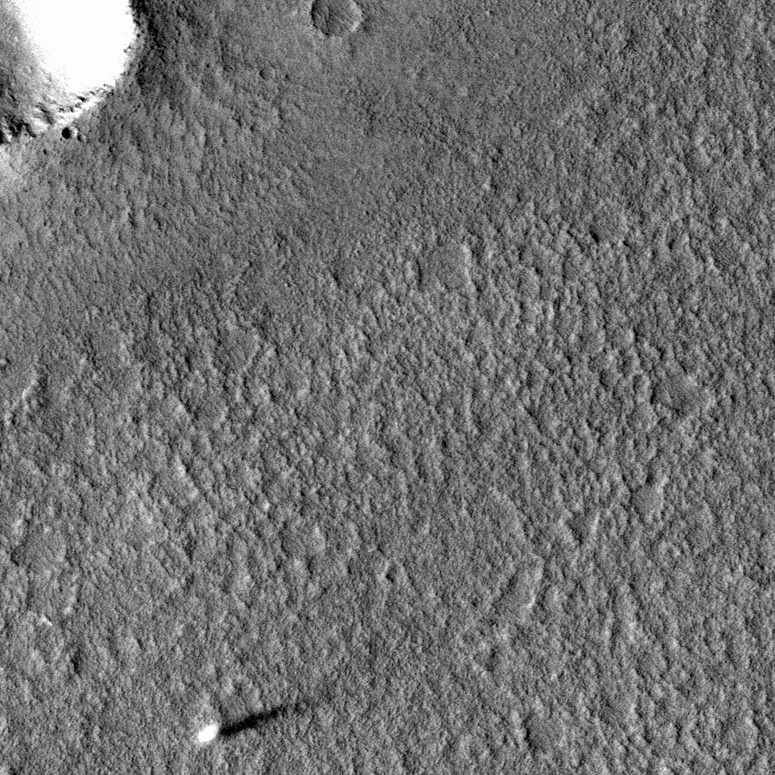dust_devil: (194, 698, 314, 748)
